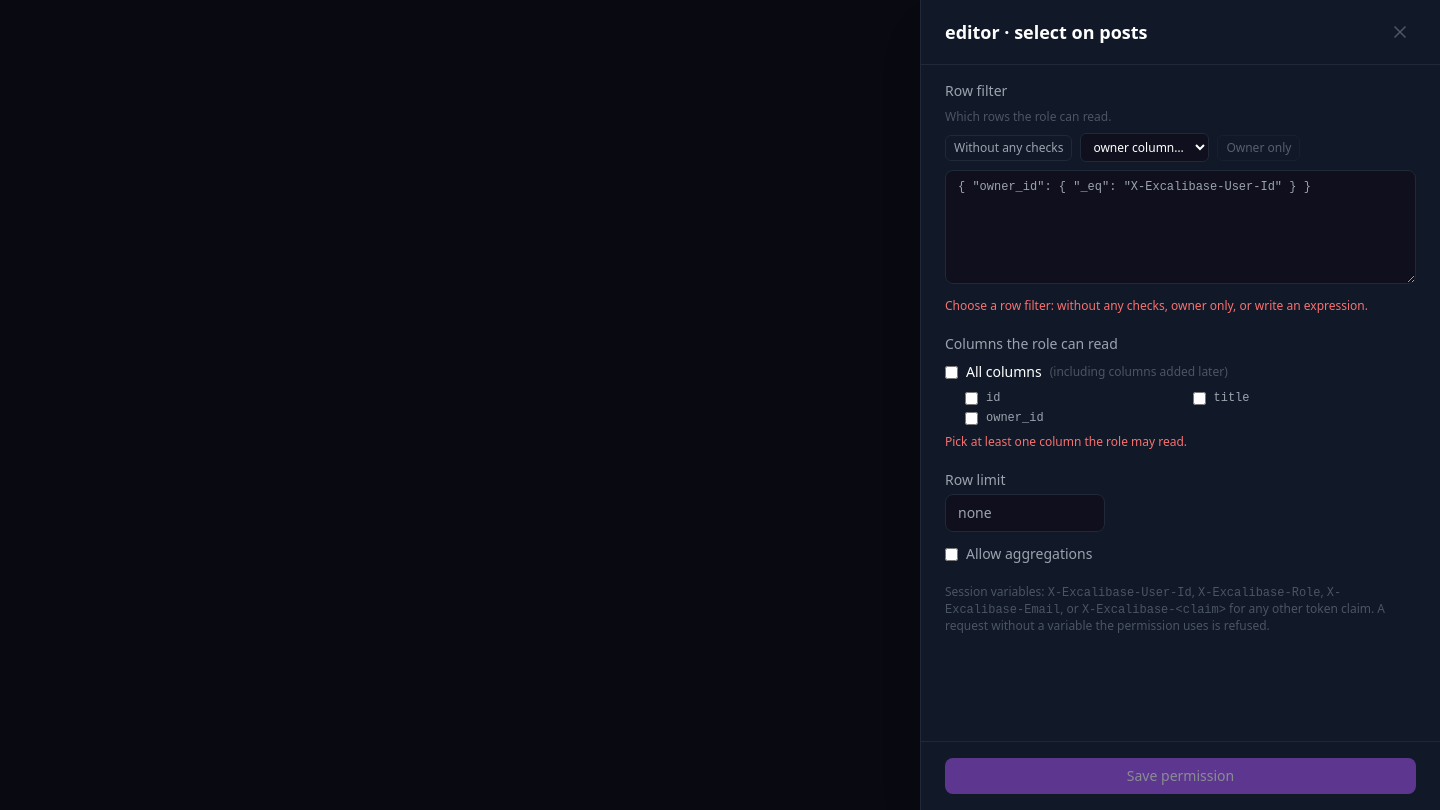
Scenario: PermissionEditor › a row limit must be a positive whole number within range
Click the button "Without any checks" at [1009, 148], box [945,134,1072,160]
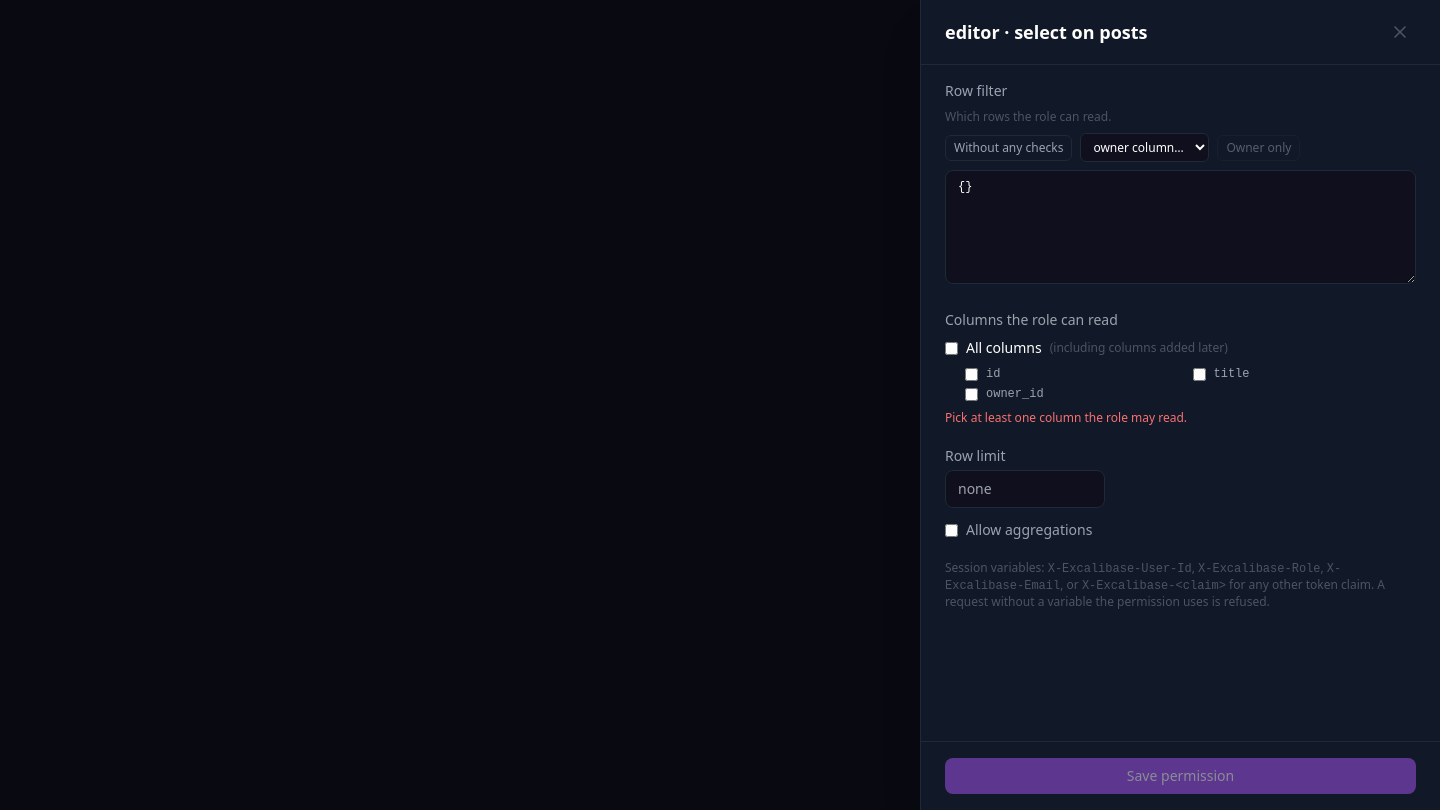
Click the checkbox labelled "All columns" at [952, 348], box [945,342,958,354]
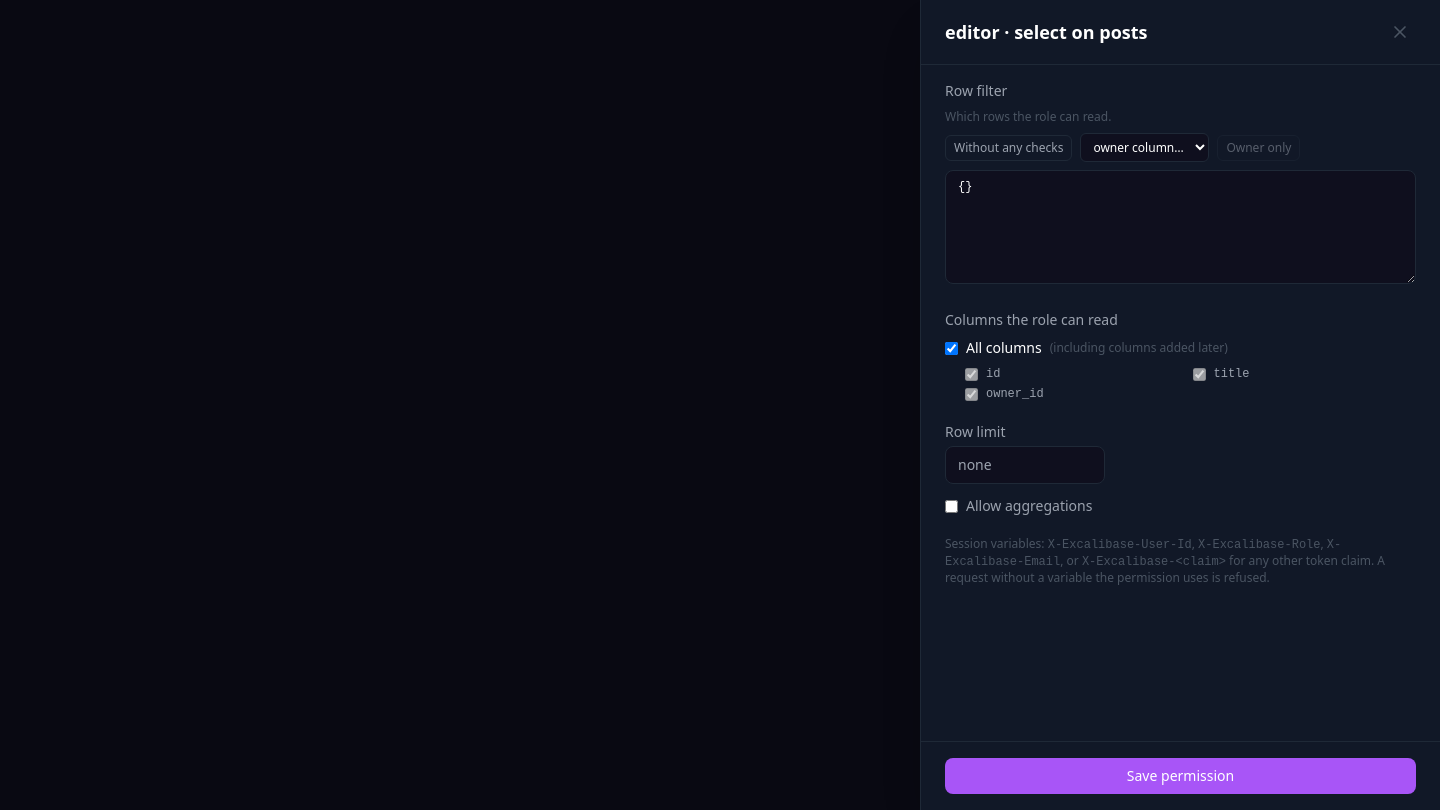
Type "0" into the number field labelled "Row limit" at [1025, 465], box [945,446,1105,484]
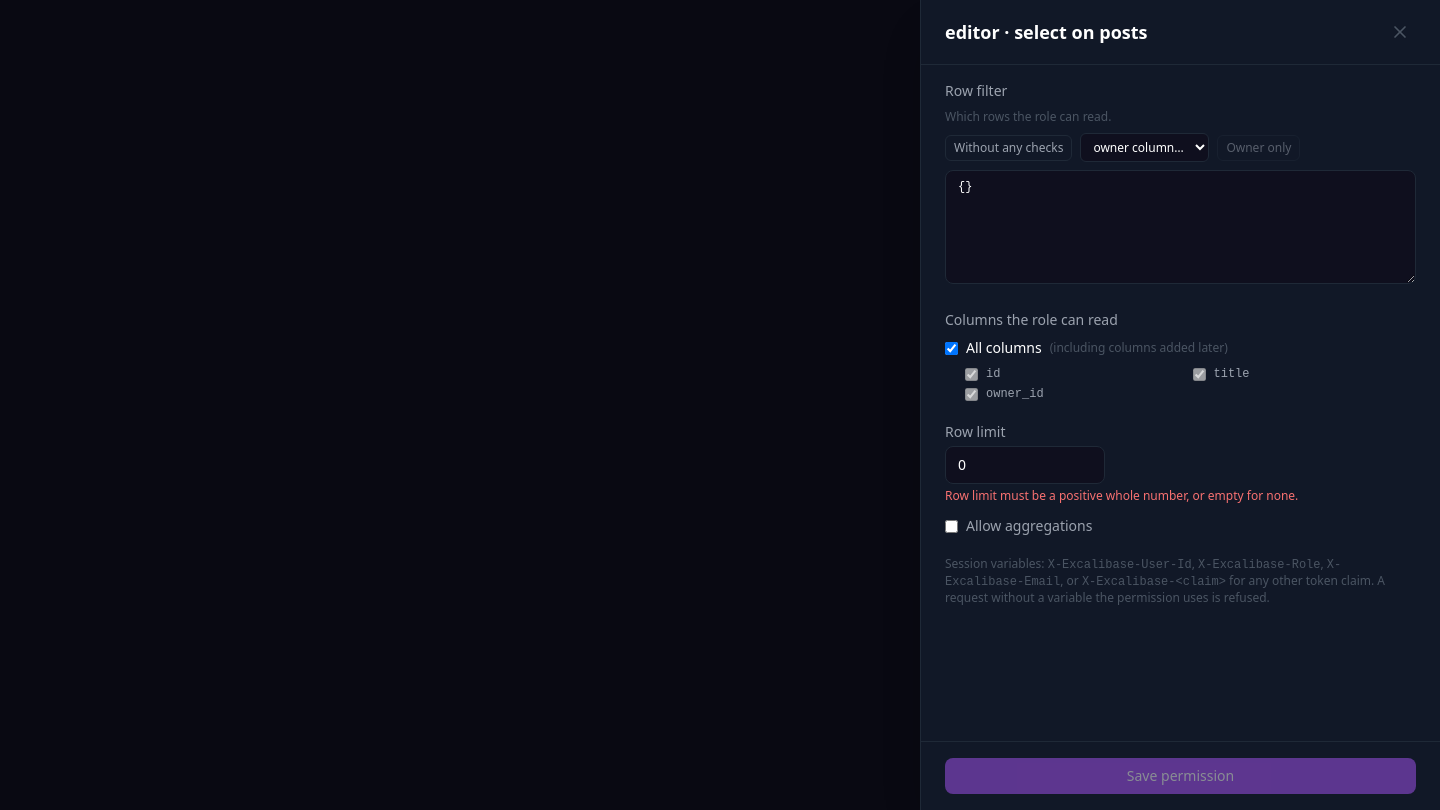
Expected: the text with test id "limit-error" shows "positive whole number", [945,487,1298,504]
Replace the text in the number field labelled "Row limit" with "99999999999" at [1025, 465], box [945,446,1105,484]
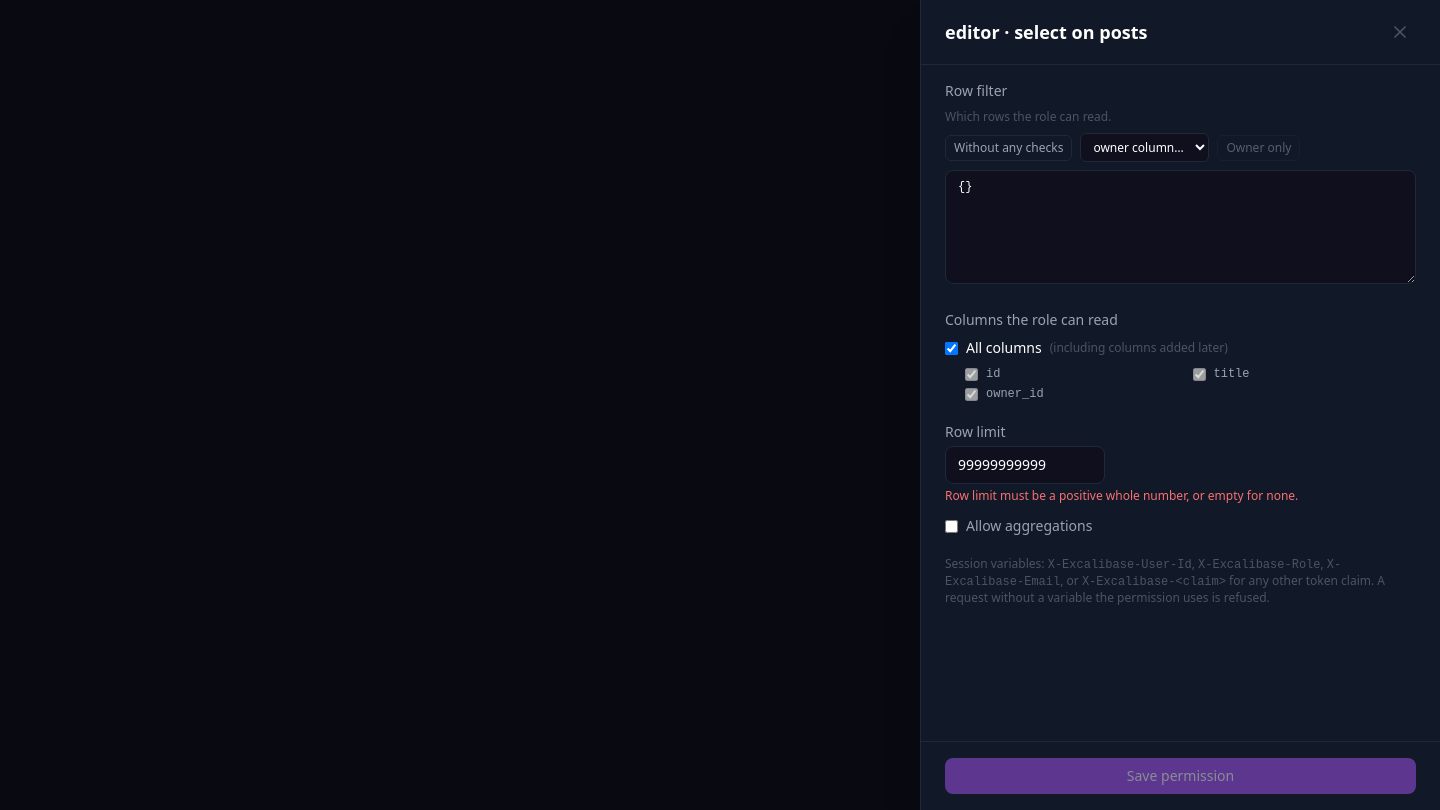
Expected: the text with test id "limit-error" is shown, [945,487,1298,504]
Expected: the button "Save permission" is disabled, [945,758,1416,794]
Replace the text in the number field labelled "Row limit" with "50" at [1025, 465], box [945,446,1105,484]
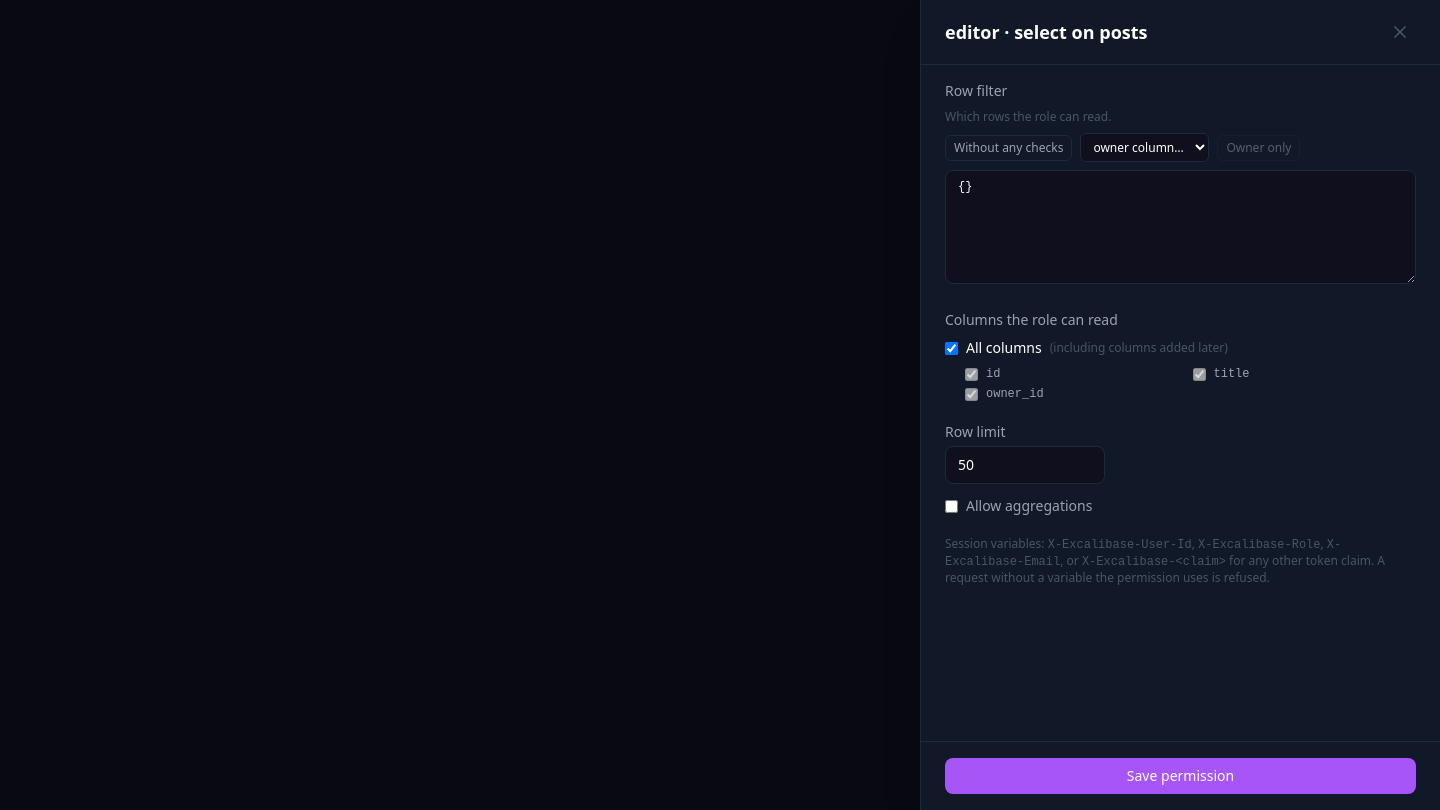
Expected: the text with test id "limit-error" is gone
Expected: the button "Save permission" is enabled, [945,758,1416,794]
